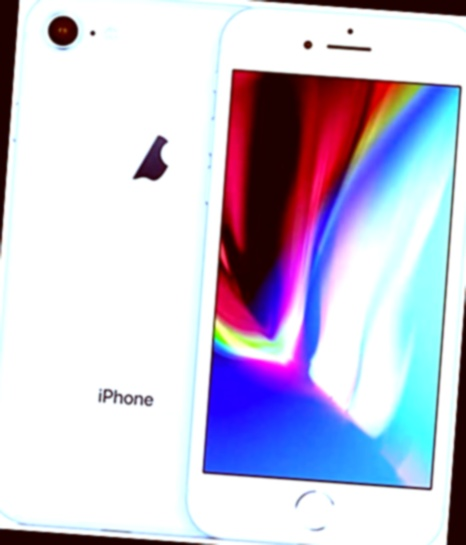iphone: (199, 5, 465, 539)
